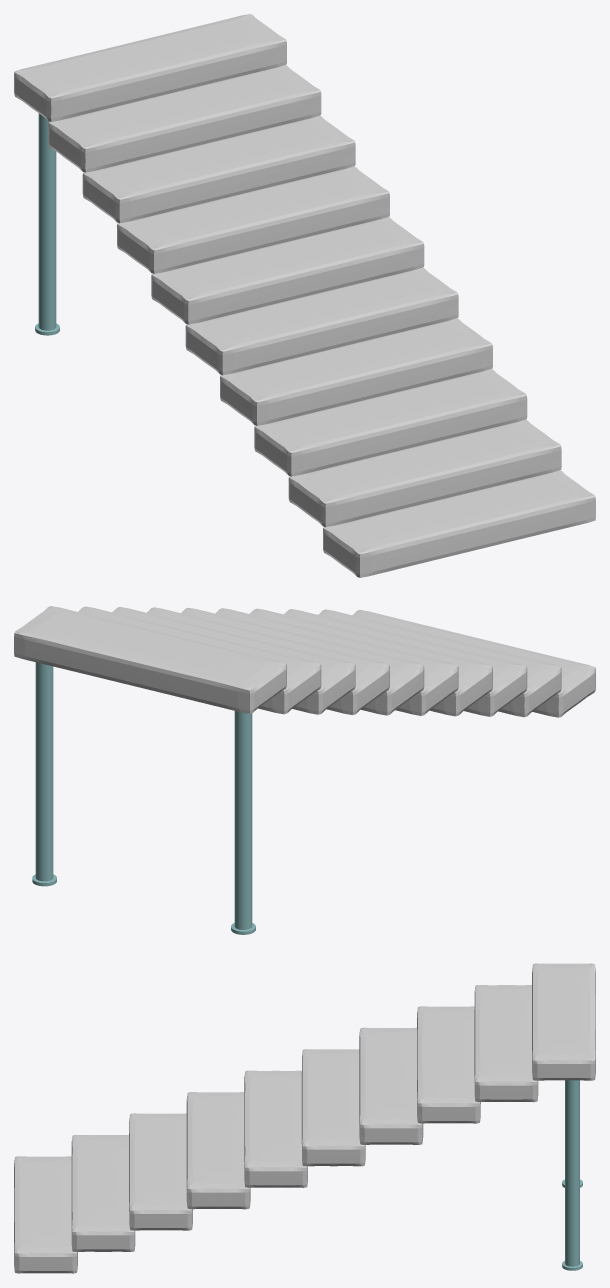
File: stairs.fbx
3 views of the same model, one above another, from view 1: azimuth 30°, elevation 25°; view 2: azimuth 150°, elevation 25°; view 3: azimuth 270°, elevation 25° (orthographic). The views are drawn at different scales.
Visible parts, largest first — view 1: Stairs, Stair Legs; view 2: Stairs, Stair Legs; view 3: Stairs, Stair Legs.
Boxes of the visible parts, <box> form: Stairs: <box>14,14,595,577</box>; Stair Legs: <box>35,113,59,335</box>; Stairs: <box>14,606,595,717</box>; Stair Legs: <box>32,662,255,934</box>; Stairs: <box>14,963,595,1273</box>; Stair Legs: <box>562,1080,582,1270</box>.
Size of the model in its own units: 401 by 409 by 1006.
